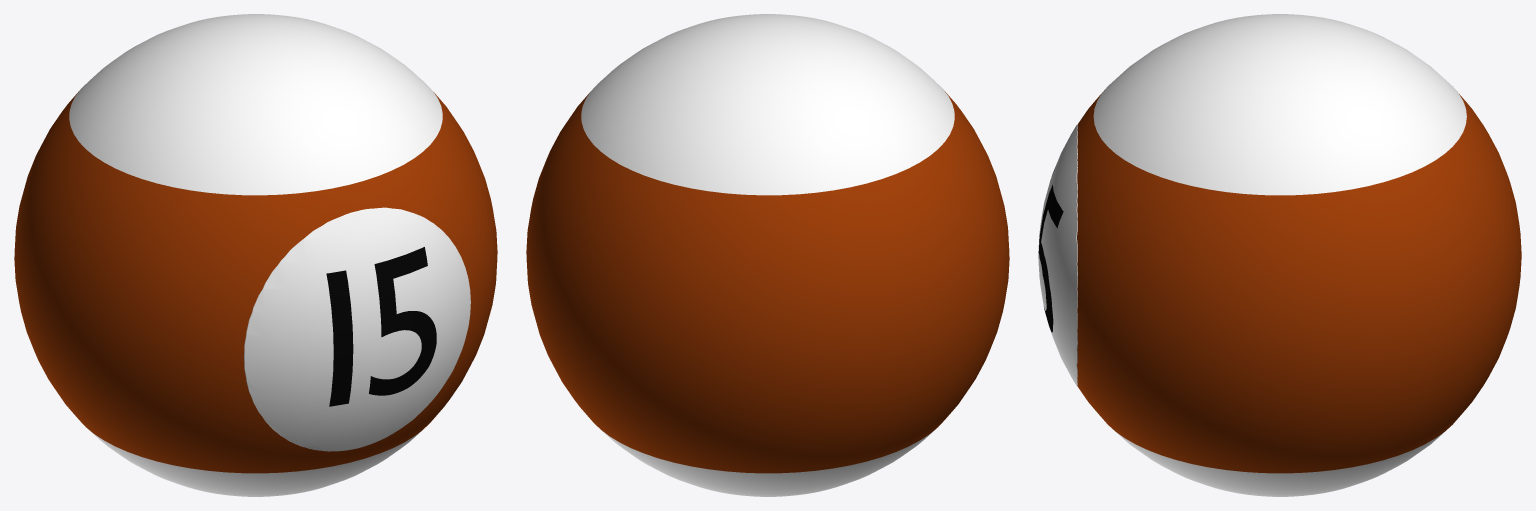
Rendered from Ball15.fbx.
3 renders of one model, left to right at view 1: azimuth 30°, elevation 25°; view 2: azimuth 150°, elevation 25°; view 3: azimuth 270°, elevation 25°, orthographic.
Parts seen in each view (by area): view 1: Ball15; view 2: Ball15; view 3: Ball15.
Boxes of the visible parts, x1,y1,x2,y2 form: Ball15: (14,14,497,496); Ball15: (526,14,1009,496); Ball15: (1038,14,1521,496).
Bounding box in the file's own units: 5.7 × 5.7 × 5.7.
